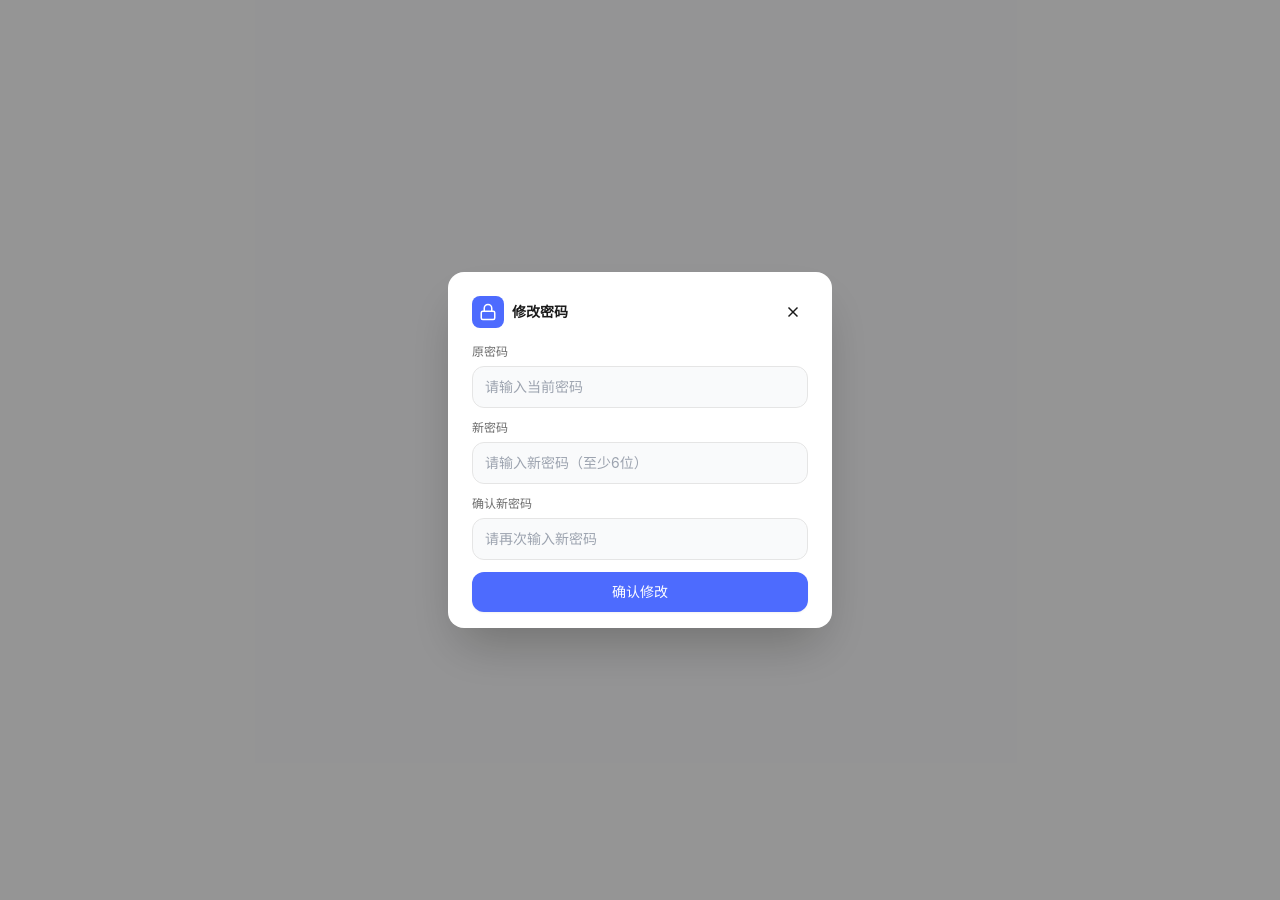
Test case: ChangePasswordModal › 两次新密码不一致报错
The image size is (1280, 900).
Type "abc123" into the password field with placeholder "请输入当前密码" at (640, 387), box [472, 366, 808, 408]
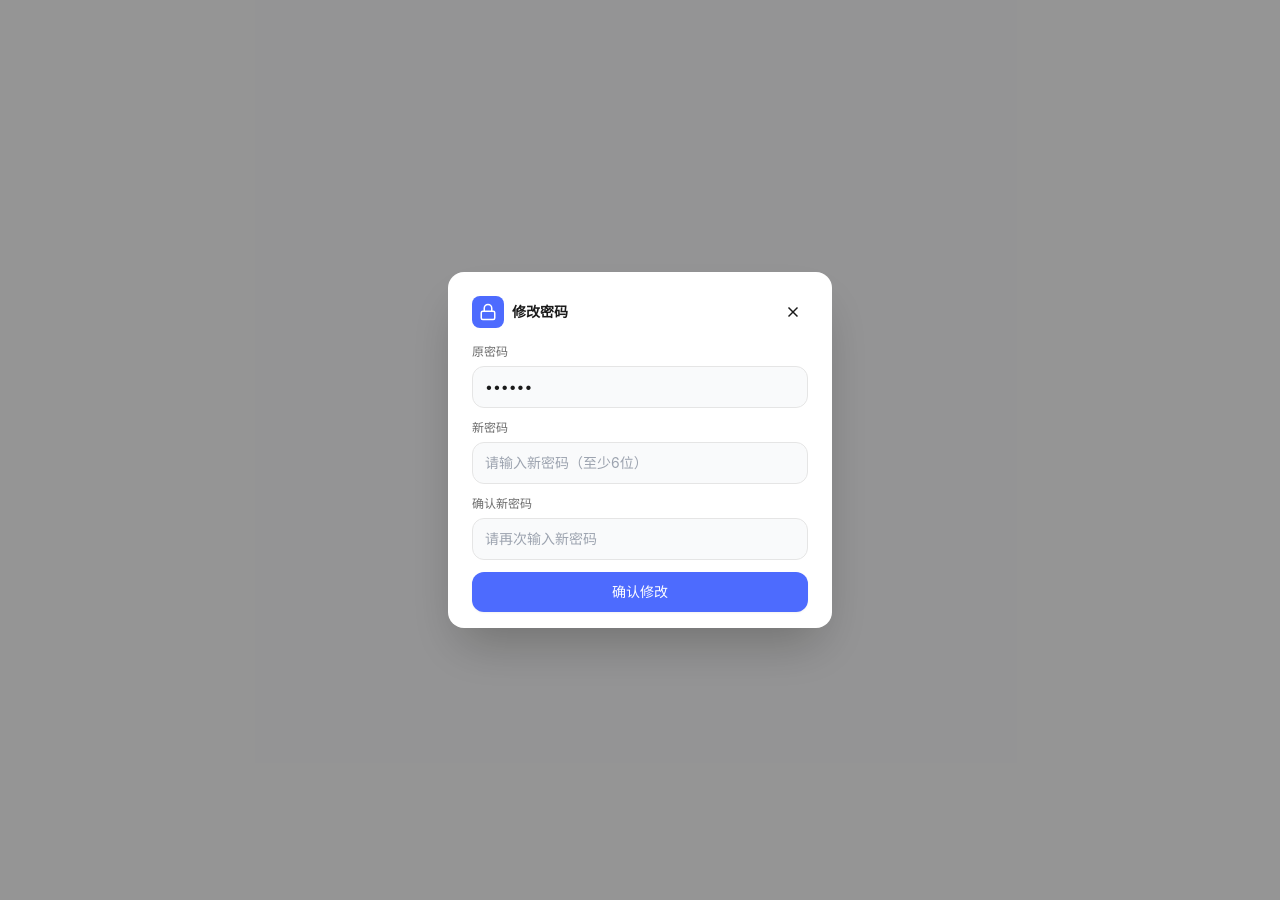
Type "abc123" into the password field with placeholder "请输入新密码（至少6位）" at (640, 463), box [472, 442, 808, 484]
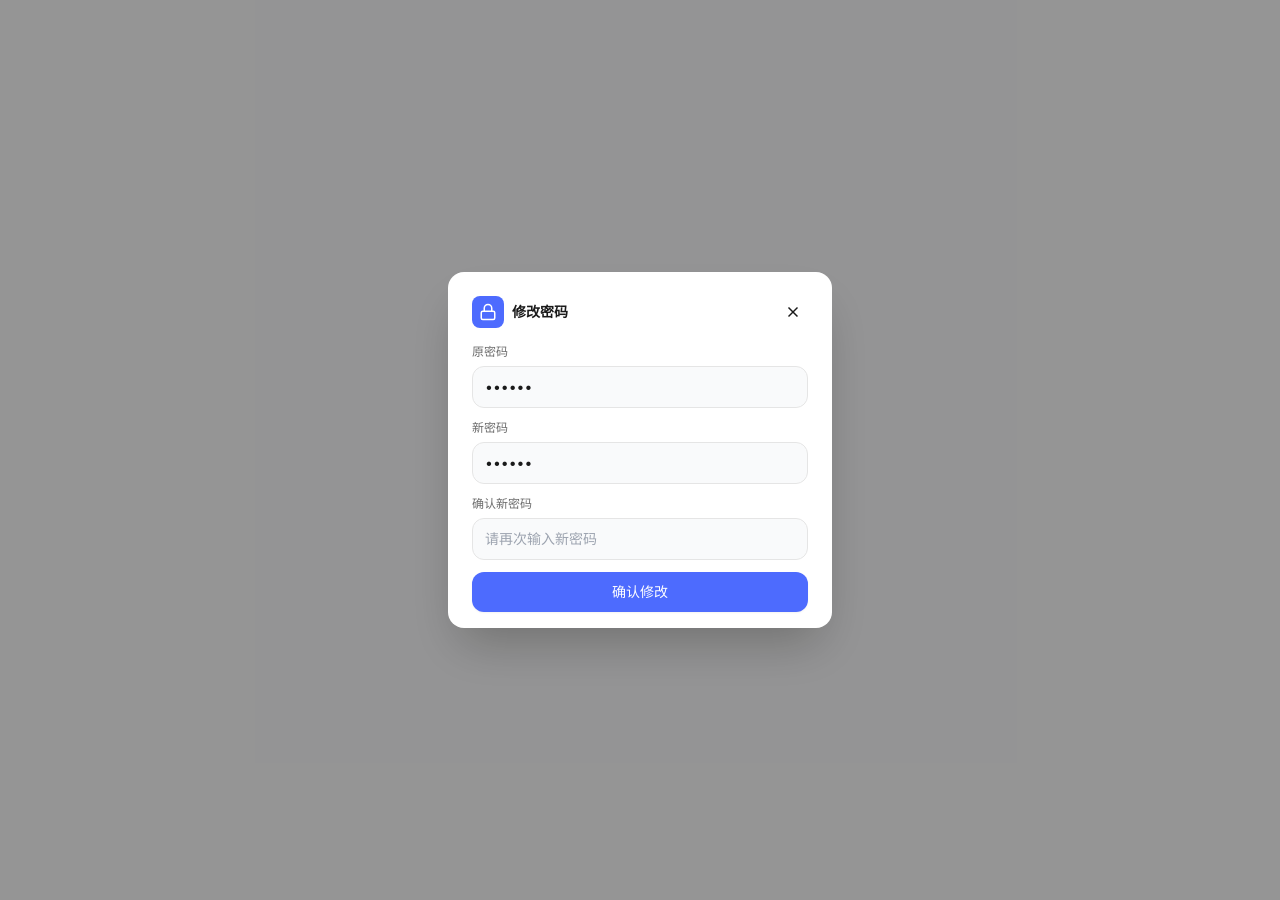
Type "abc999" into the password field with placeholder "请再次输入新密码" at (640, 539), box [472, 518, 808, 560]
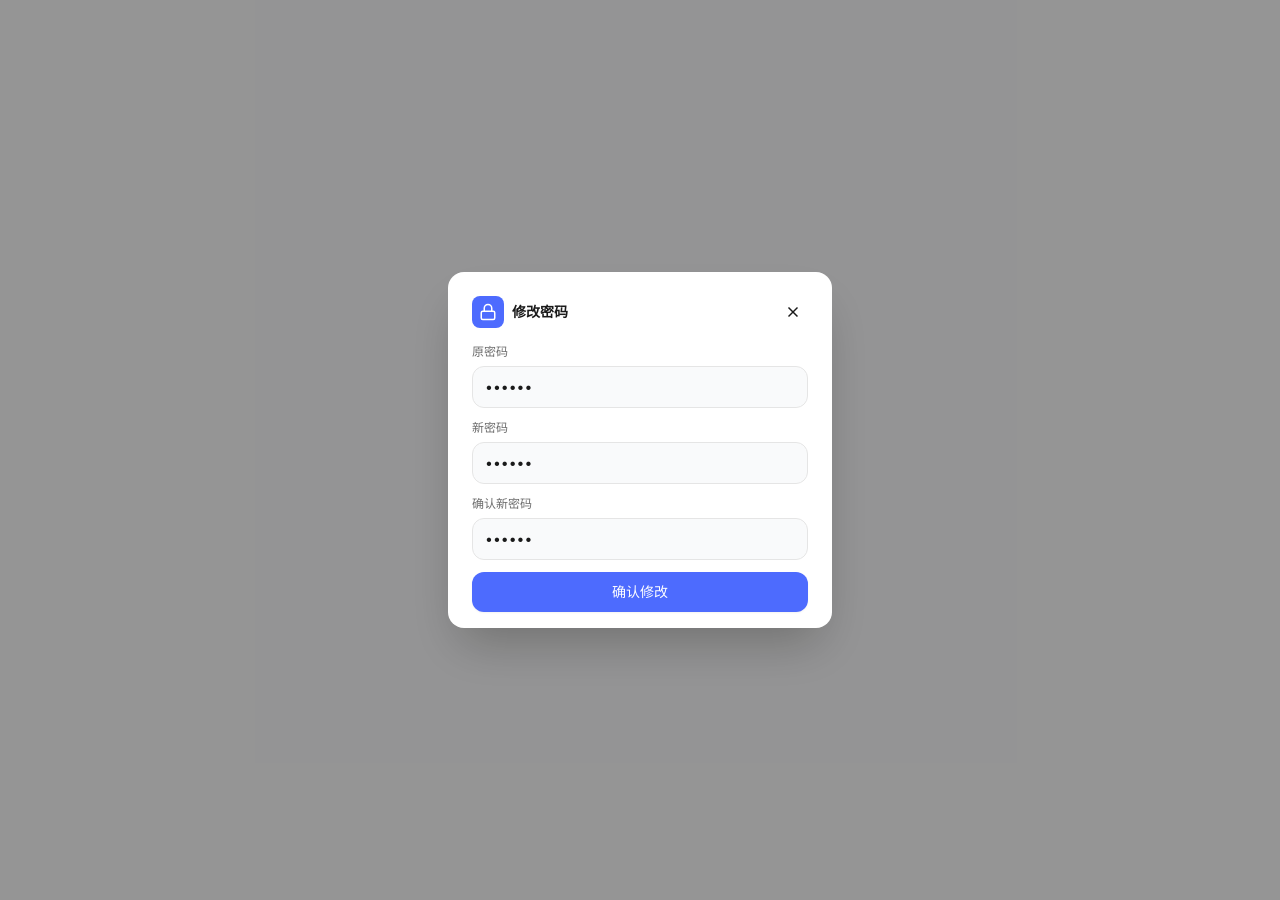
Click the button "确认修改" at (640, 592), box [472, 572, 808, 612]
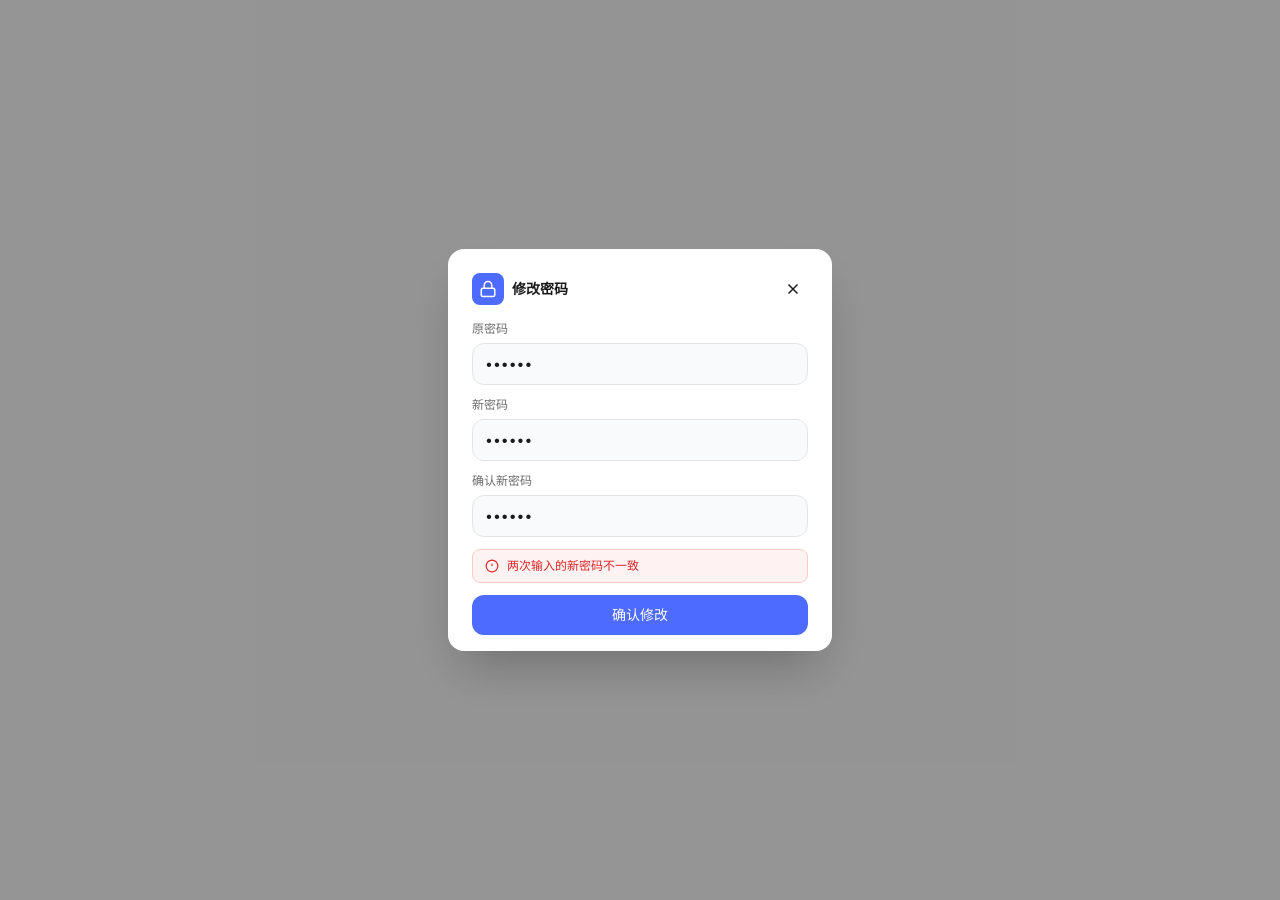
Expected: the text "两次输入的新密码不一致" is shown, [472, 549, 808, 583]
